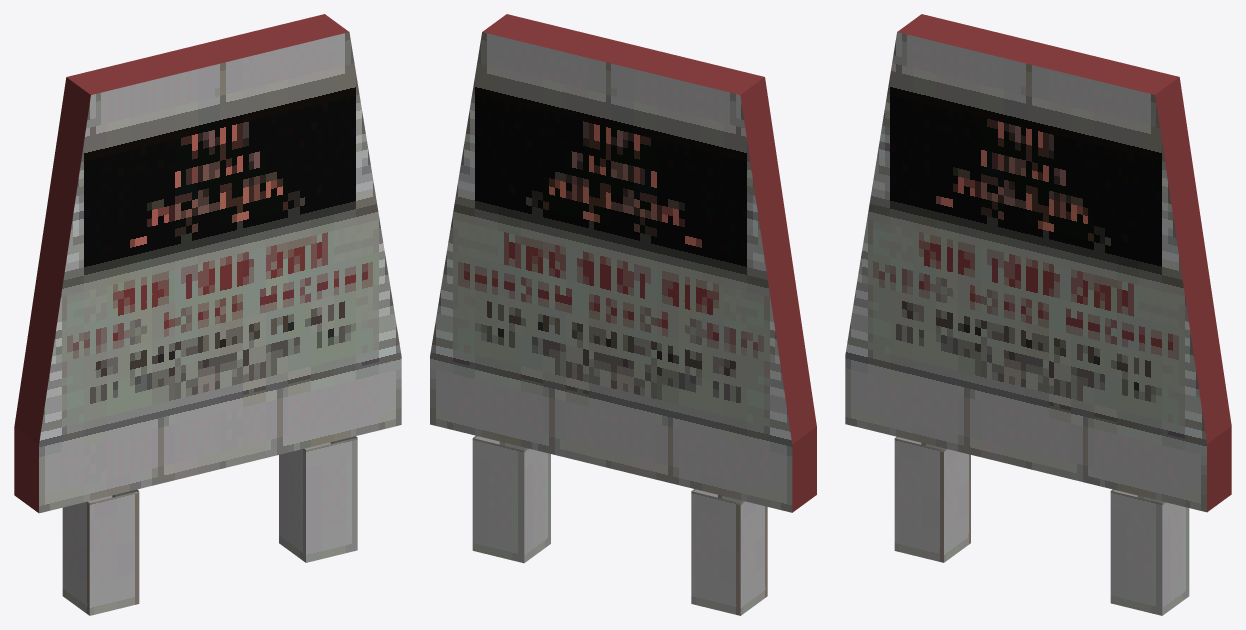
File: lodbox10sgn_lvs.obj
The picture shows the model from 3 angles, left to right: view 1: azimuth 30°, elevation 25°; view 2: azimuth 150°, elevation 25°; view 3: azimuth 330°, elevation 25°; orthographic projection.
Visible parts, largest first — view 1: lodbox10sgn_lvS; view 2: lodbox10sgn_lvS; view 3: lodbox10sgn_lvS.
Part boxes in pixels (<box>): lodbox10sgn_lvS: <box>14,14,401,615</box>; lodbox10sgn_lvS: <box>430,14,816,615</box>; lodbox10sgn_lvS: <box>845,14,1231,615</box>.
Size of the model in its own units: 20.42 by 27.97 by 2.65.
Materials: 1 (1 with a texture image).
